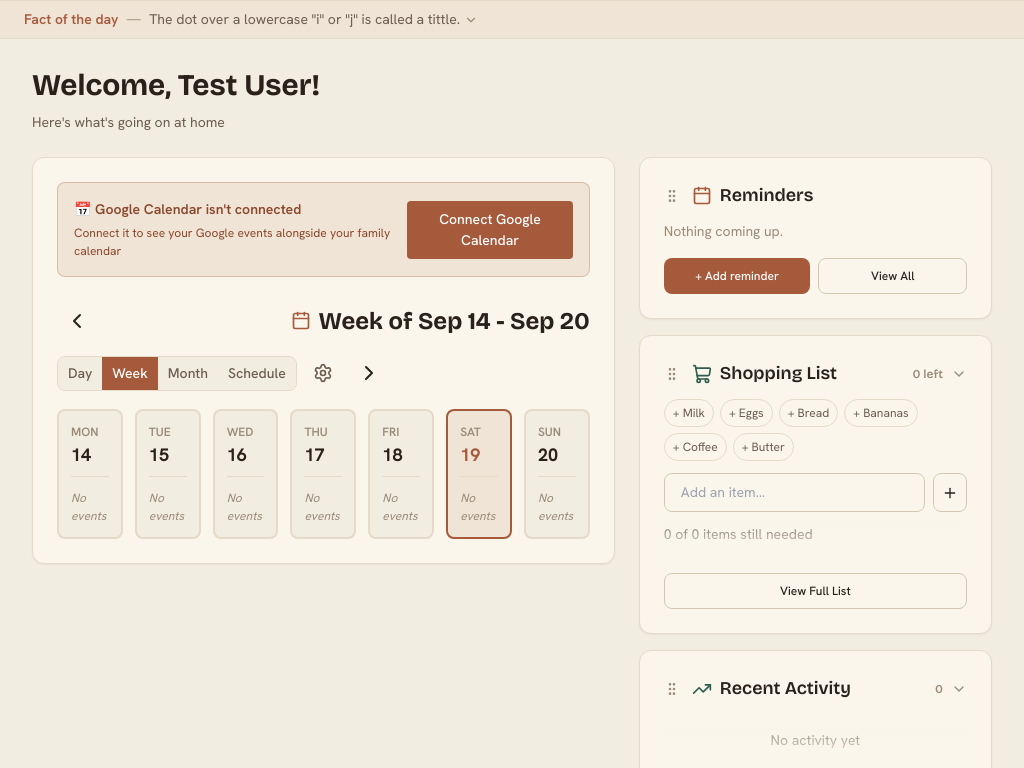
Test: Dashboard Page › Reminders card › opens the quick-add reminder modal from the card
What coordinates should you click on to do the following:
click the button "+ Add reminder"
I would click on:
 (737, 276)
Its box is [664,258,810,294].
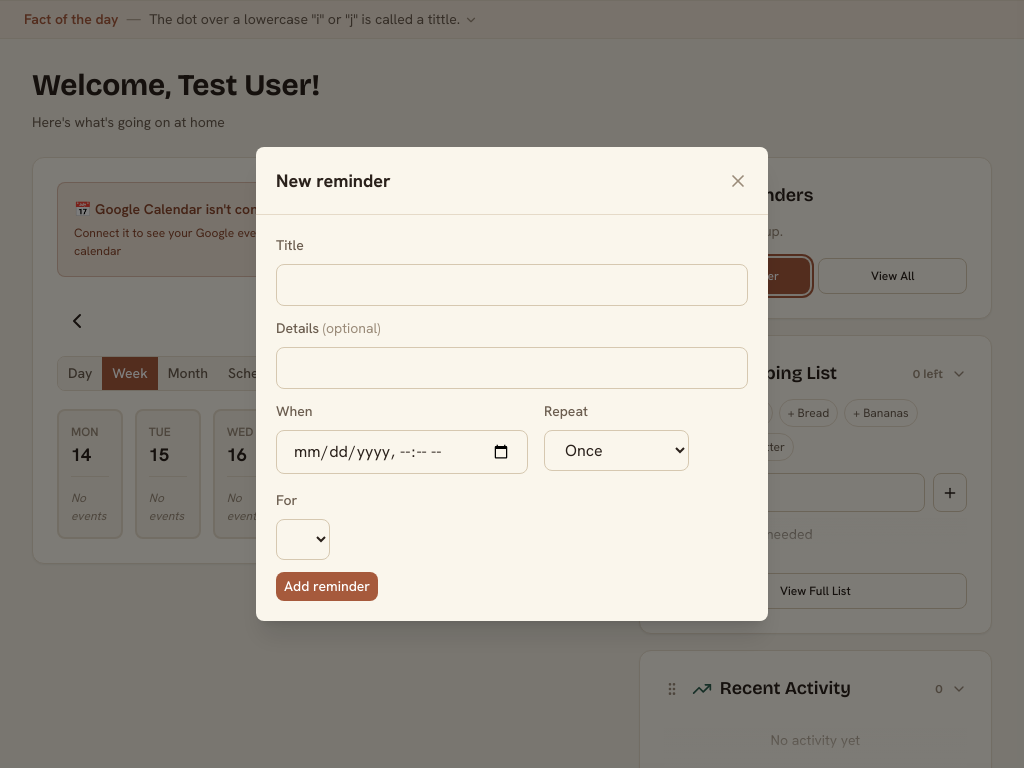
Check: the dialog "New reminder" is shown
